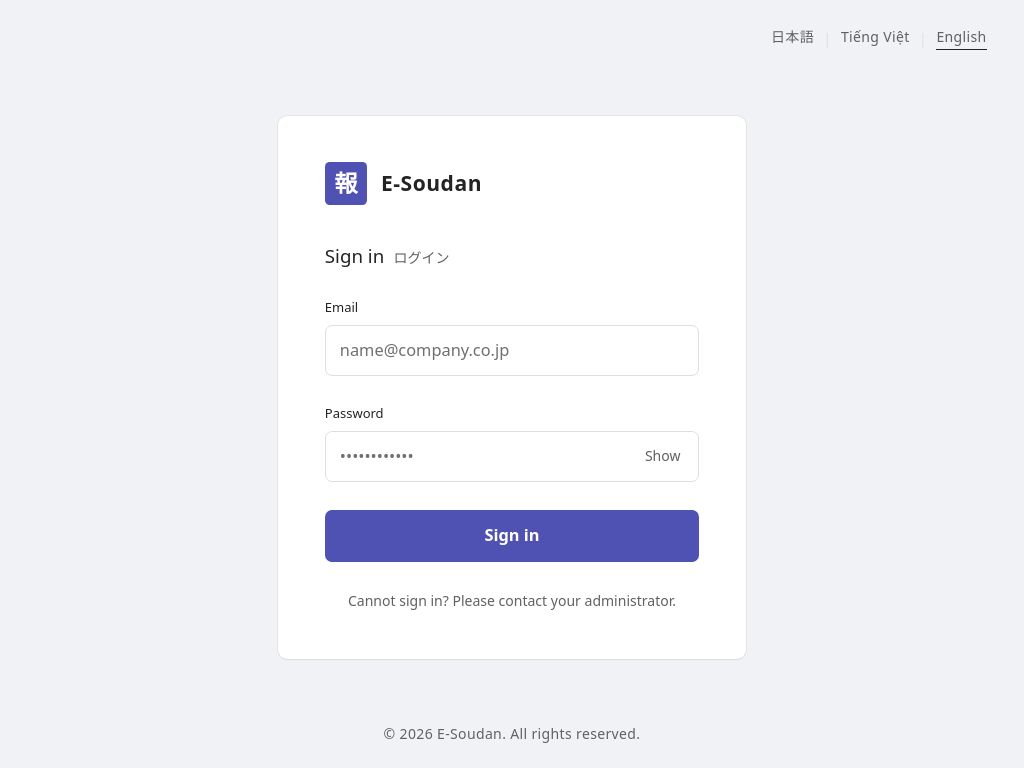
it: LoginView › account locked › should_resetForm_when_userChoosesAnotherAccount
Type "locked.user@company.co.jp" into the field with id "email" at (512, 350), box [325,325,699,376]
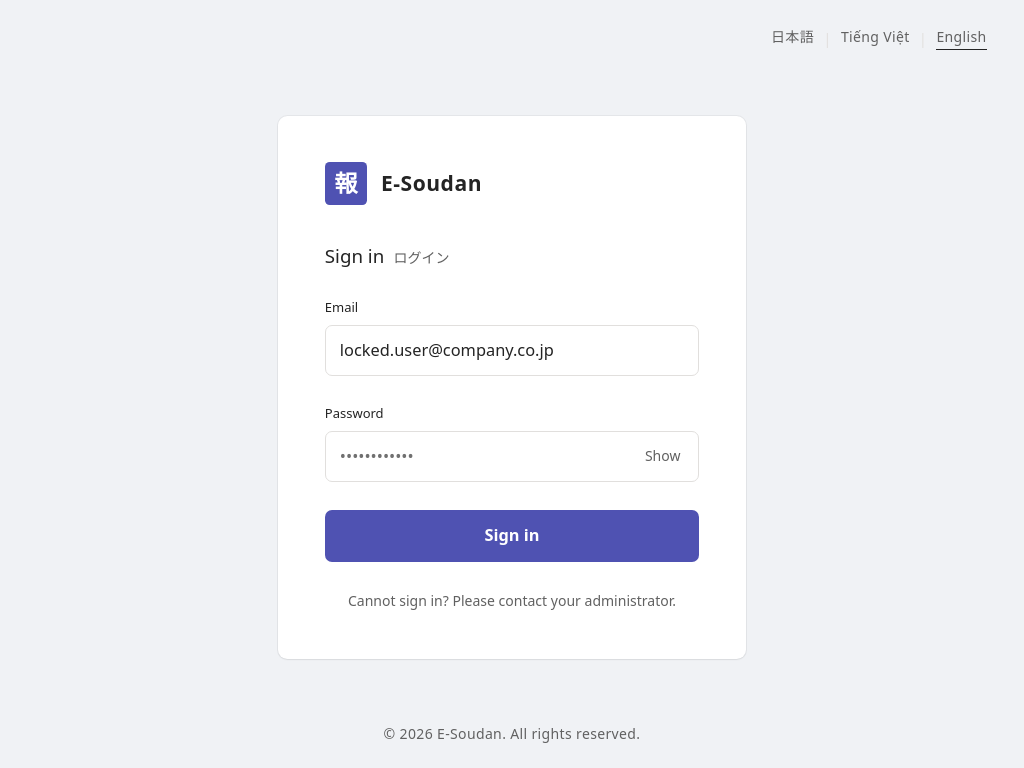
Type "secret-pass" into the password field labelled "Password" at (512, 456), box [325,431,699,482]
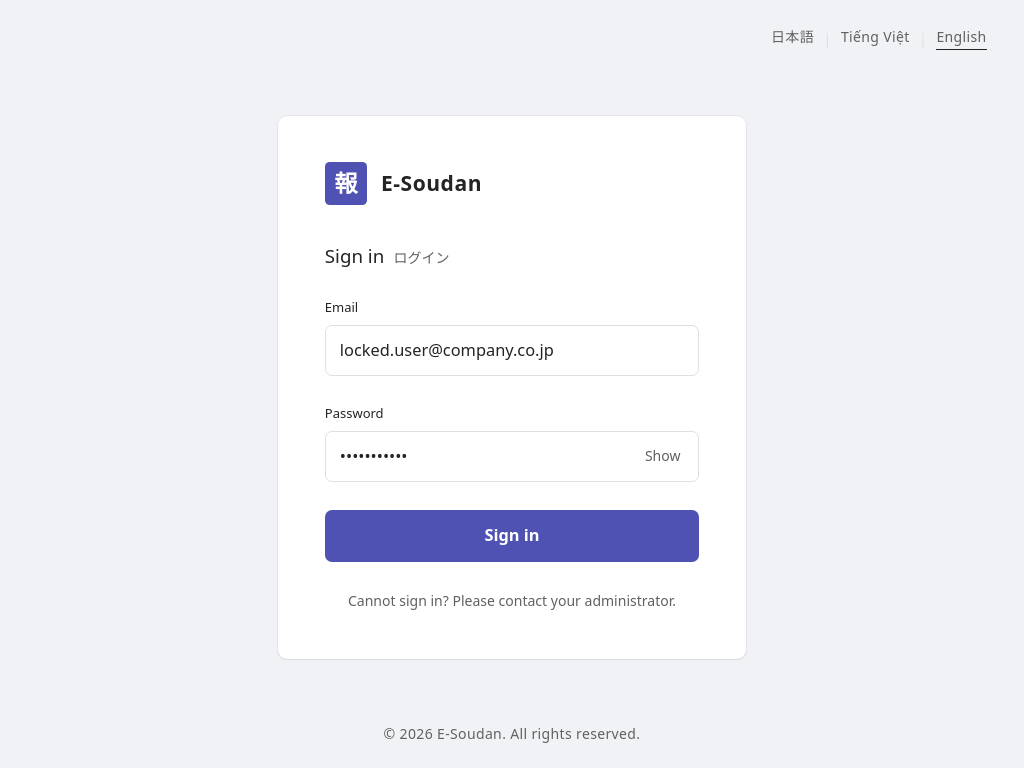
Submit the form, box [325,298,699,562]
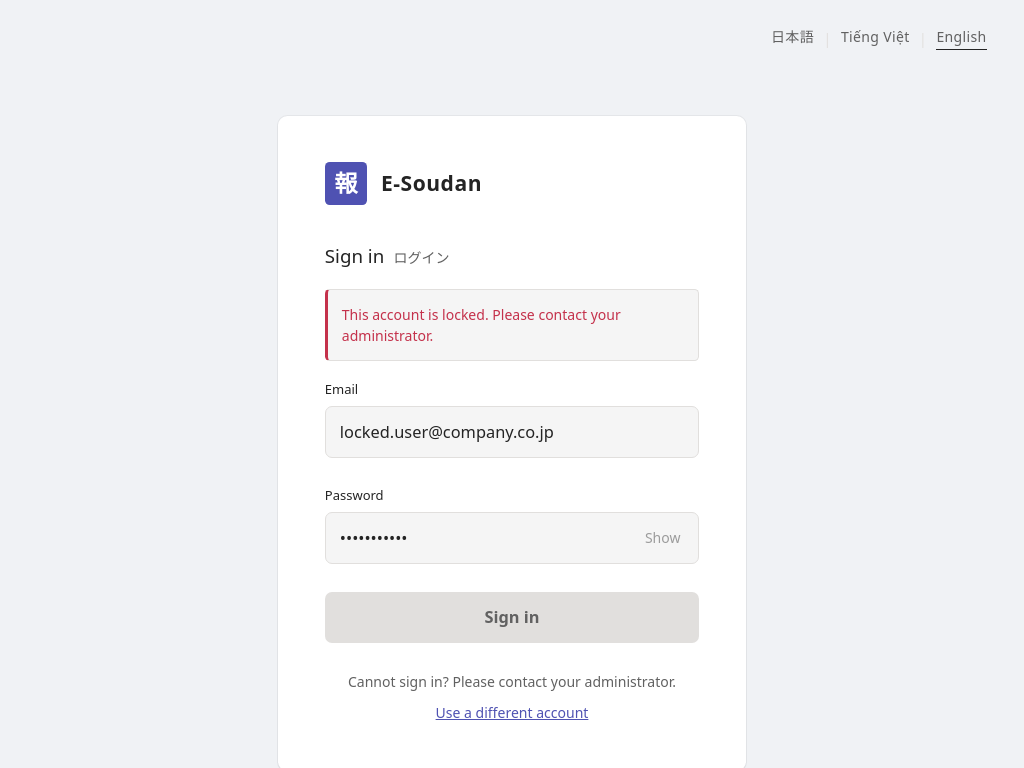
Click the button "Use a different account" at (512, 713), box [436,704,588,722]
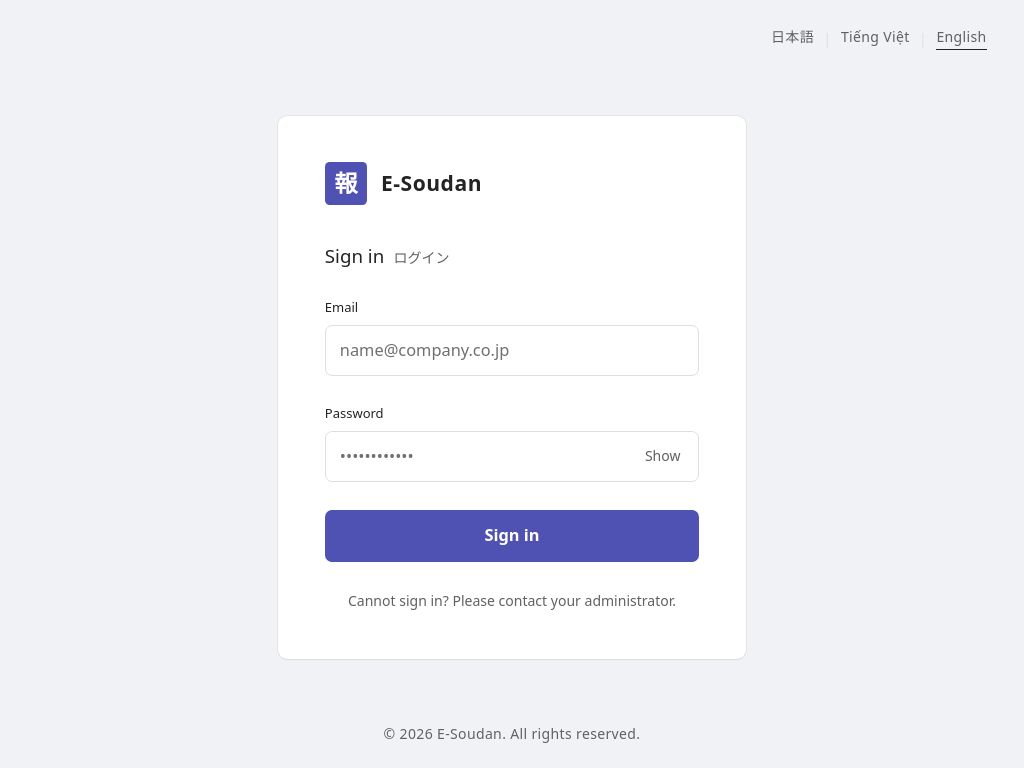
Expected: the field with id "email" is enabled, [325,325,699,376]
Expected: the field with id "email" is empty, [325,325,699,376]
Expected: the submit button is enabled, [325,510,699,562]
